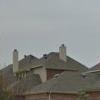Chimney: (8, 45, 22, 82)
